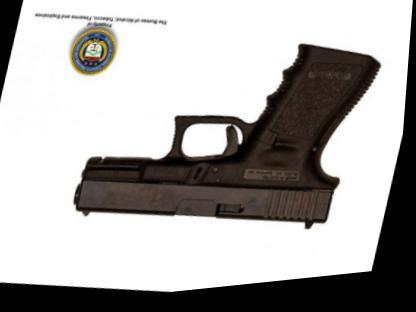pistol: (69, 2, 395, 264)
